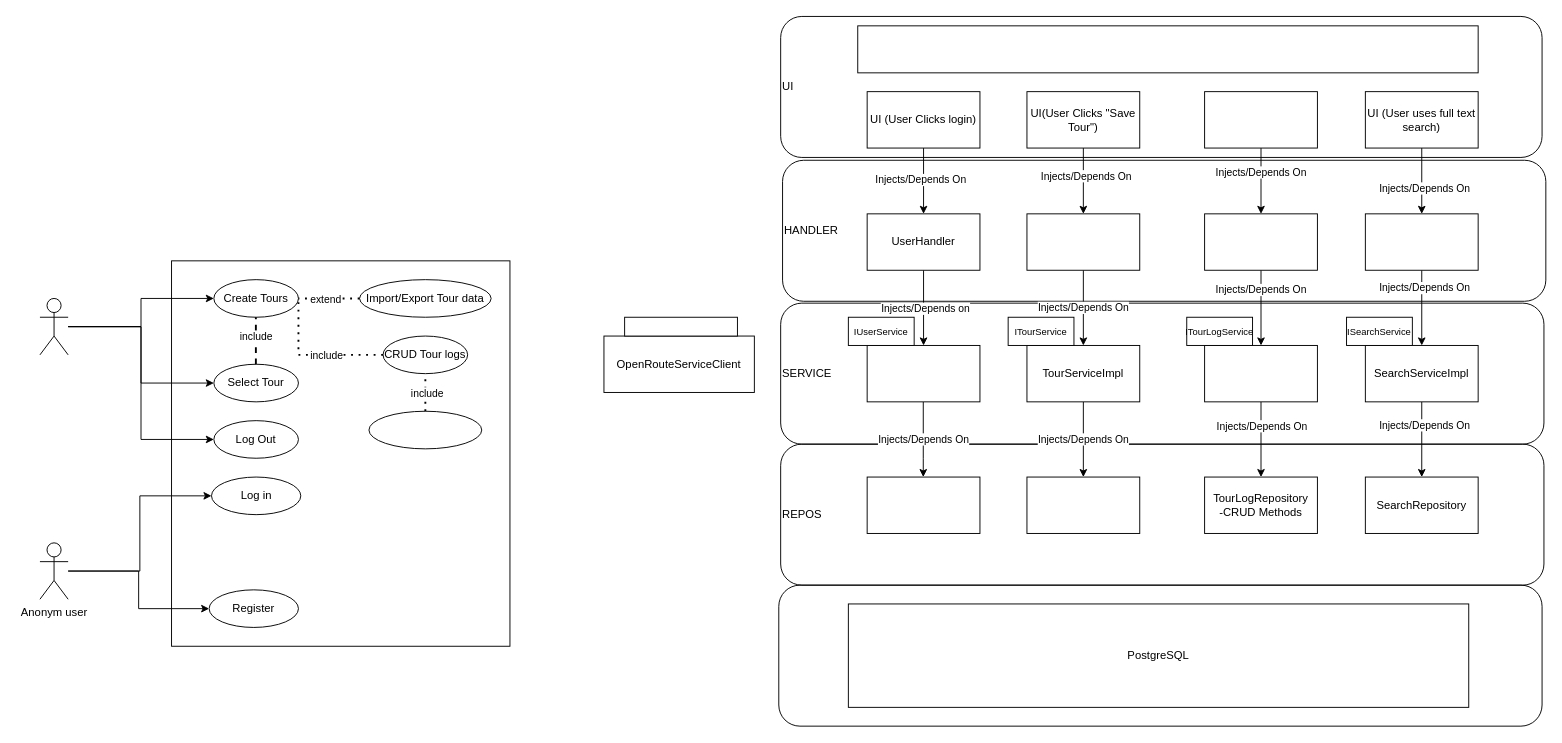
Some shapes in this 1562 by 743 pixel diagram are drawn without their labels. Here are the shapes that lost their labels. From the top down, the box of each, then its label:
(857, 25, 1478, 73): Frontend
(1204, 91, 1317, 148): UI(User Clicks "Edit Tour Log")
(1026, 213, 1140, 270): TourHandler
(1204, 213, 1317, 270): TourLogHandler
(1364, 213, 1478, 270): SearchHandler
(39, 298, 68, 355): Logged in User
(624, 316, 737, 336): External Service
(866, 345, 980, 402): UserServiceImpl
(1204, 345, 1317, 402): TourLogServiceImpl
(368, 410, 482, 449): View tour statistics
(866, 476, 980, 533): UserRepository -CRUD Methods
(1026, 476, 1140, 533): TourRepository -CRUD Methods
(778, 584, 1542, 726): DB
